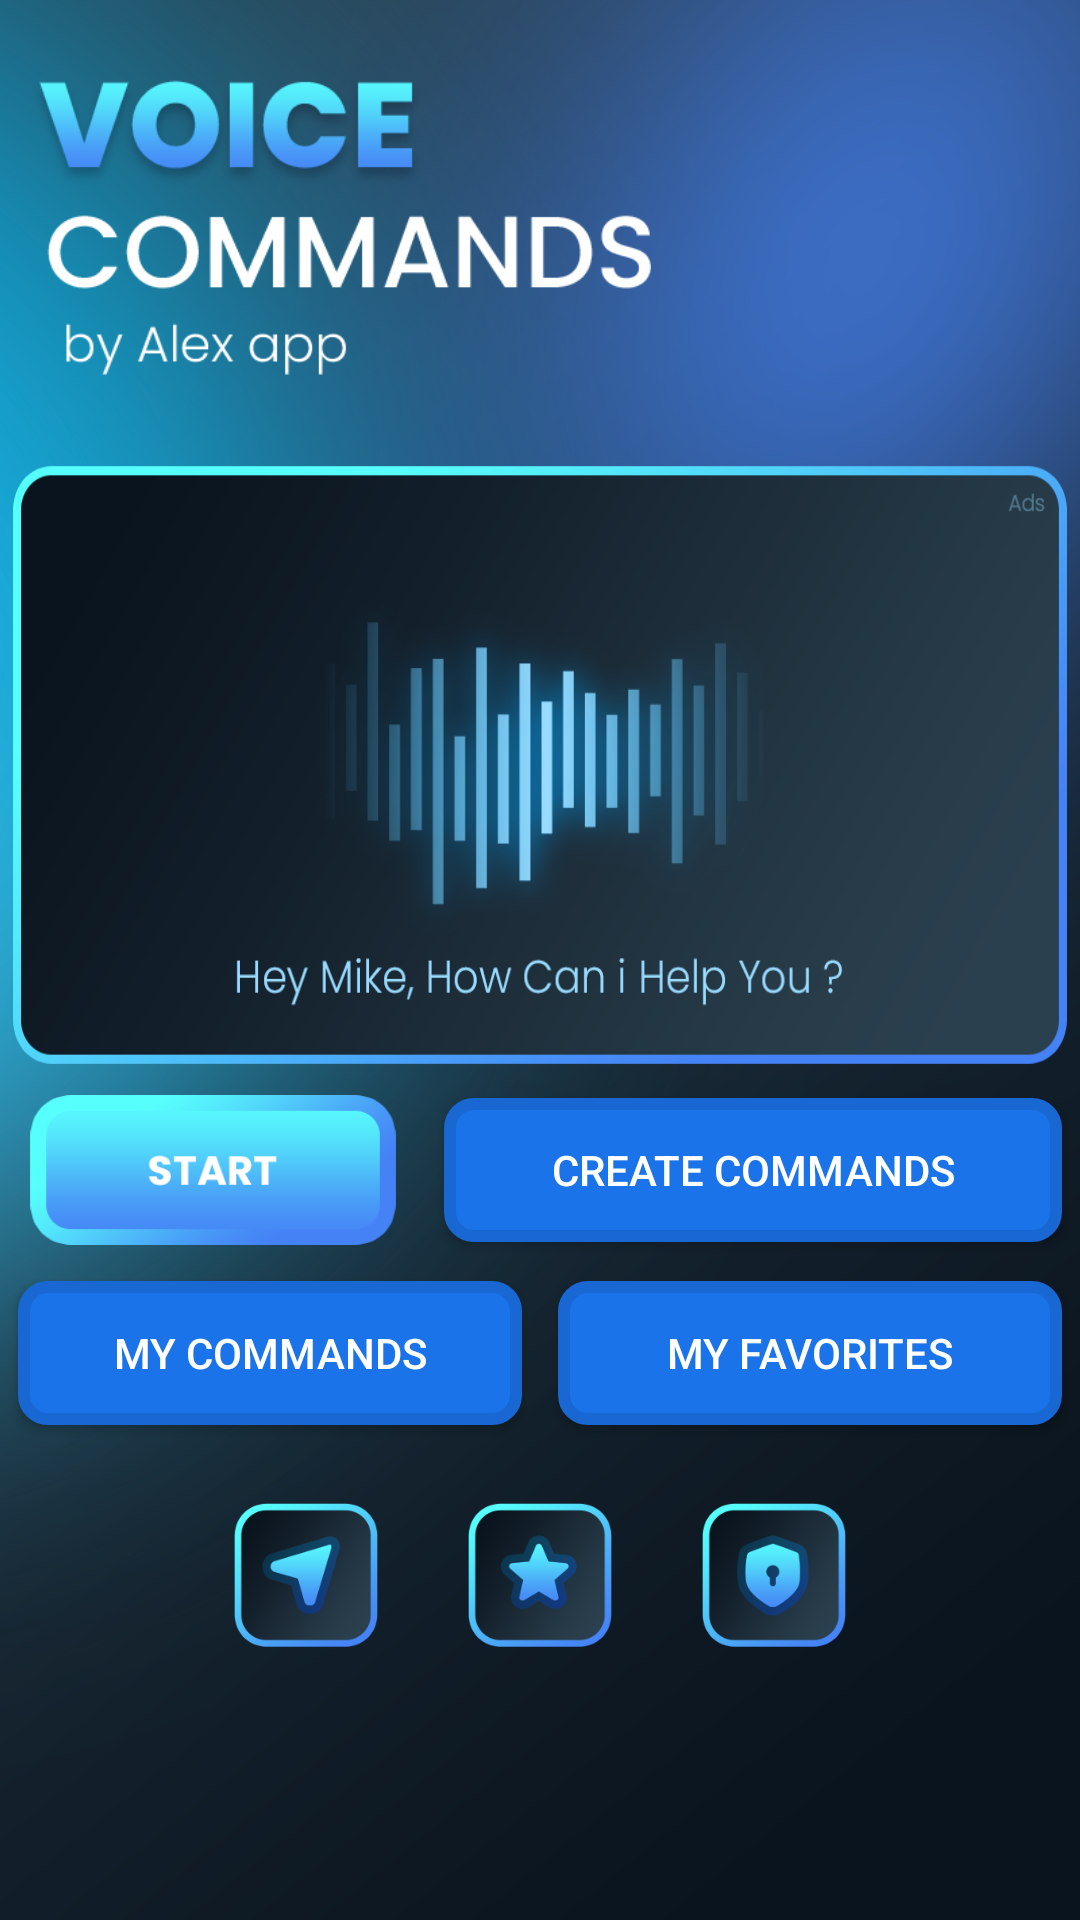

Where icons sit on this 1080w x 1920h app screen, as box(x1, y1, x2, y2):
privacy: box(702, 1503, 846, 1647)
rate: box(468, 1503, 612, 1647)
share: box(234, 1503, 378, 1647)
